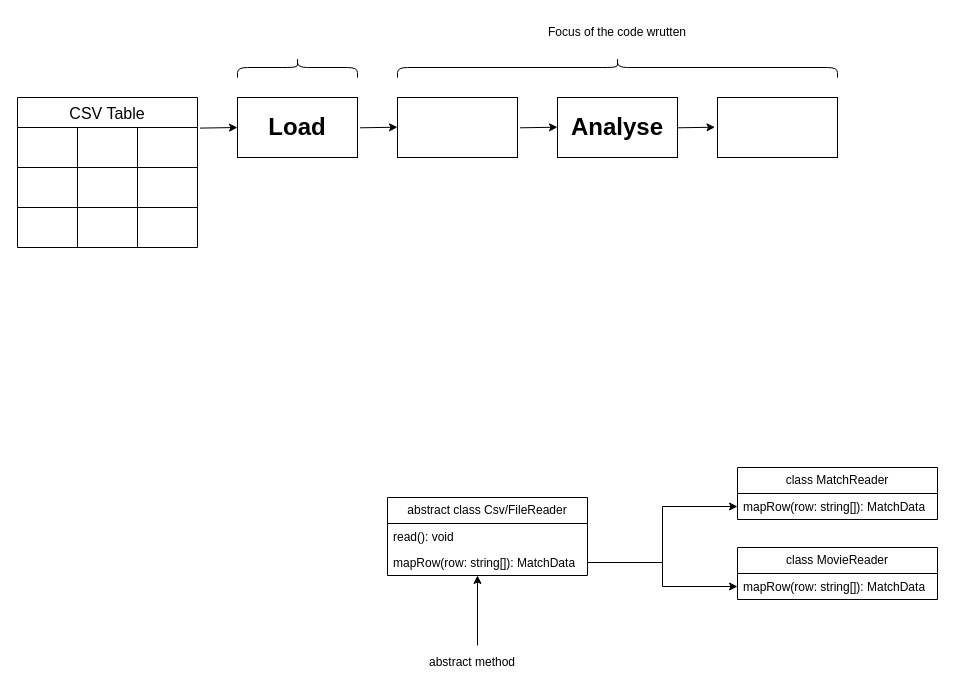
Image size: 955x694. Some labels were removed from this diagram. The shapes that lost their labels are listed below. From the top down, each one's centre as x and y in pixels, then its label:
At [297,67]: "using node lib".
At [457,127]: "Parse".
At [777,127]: "Report".
